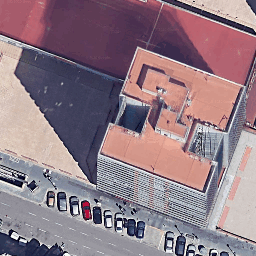car: (24, 238, 41, 255), (81, 200, 92, 220), (70, 195, 79, 217), (176, 234, 185, 256), (57, 192, 67, 211), (165, 231, 173, 253), (93, 206, 102, 225), (127, 218, 136, 237), (115, 212, 123, 232), (46, 190, 55, 207), (104, 210, 112, 229), (137, 221, 145, 239), (47, 247, 63, 256), (187, 243, 195, 256), (210, 248, 218, 256), (220, 251, 228, 256)
